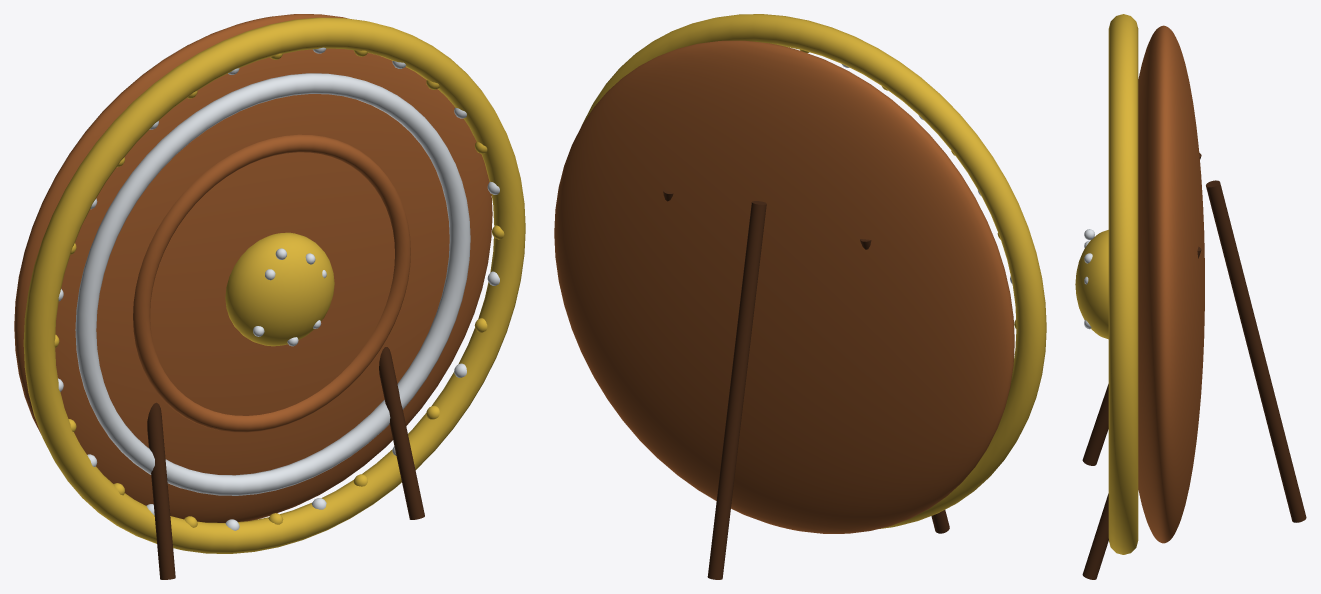
The model's file is iliad-shield.glb.
3 renders of one model, left to right at view 1: azimuth 30°, elevation 25°; view 2: azimuth 150°, elevation 25°; view 3: azimuth 270°, elevation 25°, orthographic. The views are drawn at different scales.
Parts seen in each view (by area): view 1: shield-body, ocean-stream-rim, pastoral-fields-ring, two-cities-ring, sun-boss, easel-leg-r, easel-leg-l; view 2: shield-body, ocean-stream-rim, easel-leg-back; view 3: shield-body, ocean-stream-rim, easel-leg-back, sun-boss, easel-leg-r, easel-leg-l.
Boxes of the visible parts, left/top/right/bottom form: shield-body: left=14, top=14, right=492, bottom=522; ocean-stream-rim: left=23, top=17, right=525, bottom=553; pastoral-fields-ring: left=75, top=73, right=470, bottom=495; two-cities-ring: left=133, top=134, right=410, bottom=432; sun-boss: left=225, top=232, right=334, bottom=346; easel-leg-r: left=379, top=347, right=424, bottom=519; easel-leg-l: left=147, top=402, right=175, bottom=579; shield-body: left=554, top=40, right=1014, bottom=533; ocean-stream-rim: left=582, top=14, right=1046, bottom=528; easel-leg-back: left=707, top=201, right=766, bottom=579; shield-body: left=1138, top=25, right=1204, bottom=543; ocean-stream-rim: left=1108, top=14, right=1138, bottom=554; easel-leg-back: left=1206, top=180, right=1306, bottom=522; sun-boss: left=1075, top=230, right=1108, bottom=339; easel-leg-r: left=1082, top=246, right=1201, bottom=579; easel-leg-l: left=1082, top=153, right=1201, bottom=465.
Size of the model in its own units: 0.92 by 0.92 by 0.3926.
